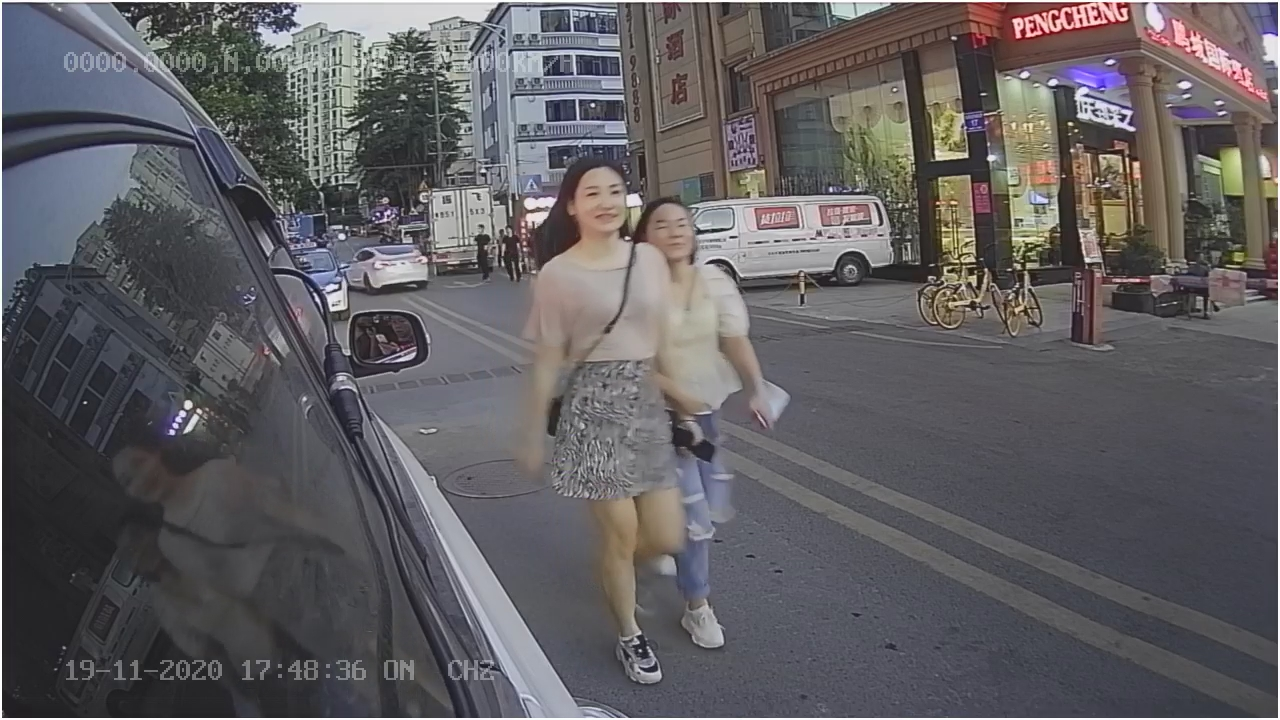person: (521, 159, 683, 589)
